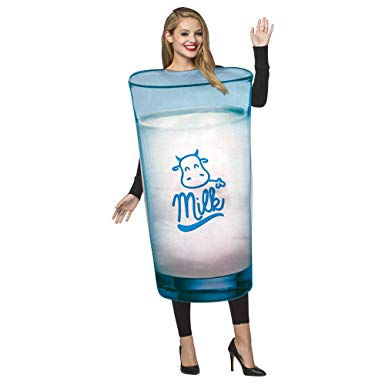glass of milk: (126, 69, 276, 306)
